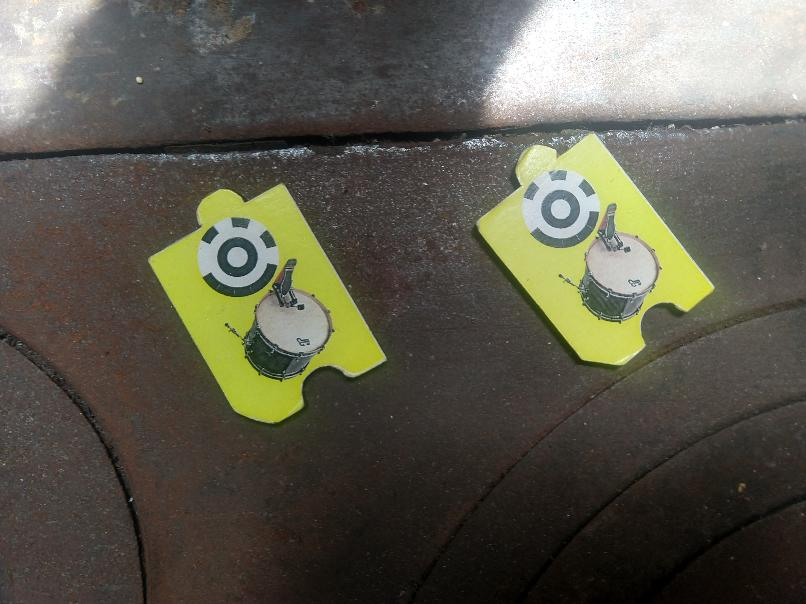bumbo: (475, 128, 712, 367), (154, 182, 388, 419)
